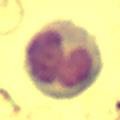monocyte: (21, 18, 106, 97)
